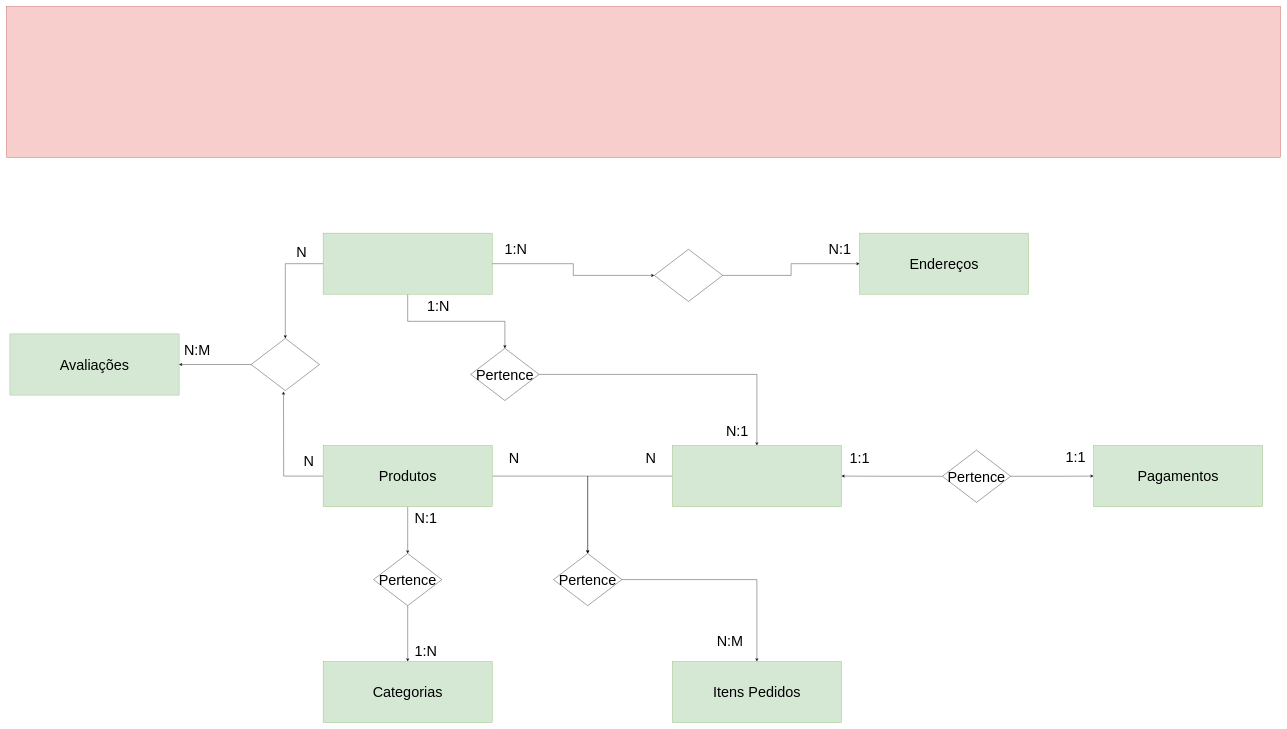
Some shapes in this 1287 by 729 pixel diagram are drawn without their labels. Here are the shapes that lost their labels. From the top down, the centre of each, then its label:
At (x=643, y=82): "Modelo Conceitual".
At (x=407, y=263): "Usuários".
At (x=688, y=275): "Possui".
At (x=285, y=364): "Tem".
At (x=757, y=476): "Pedidos".
